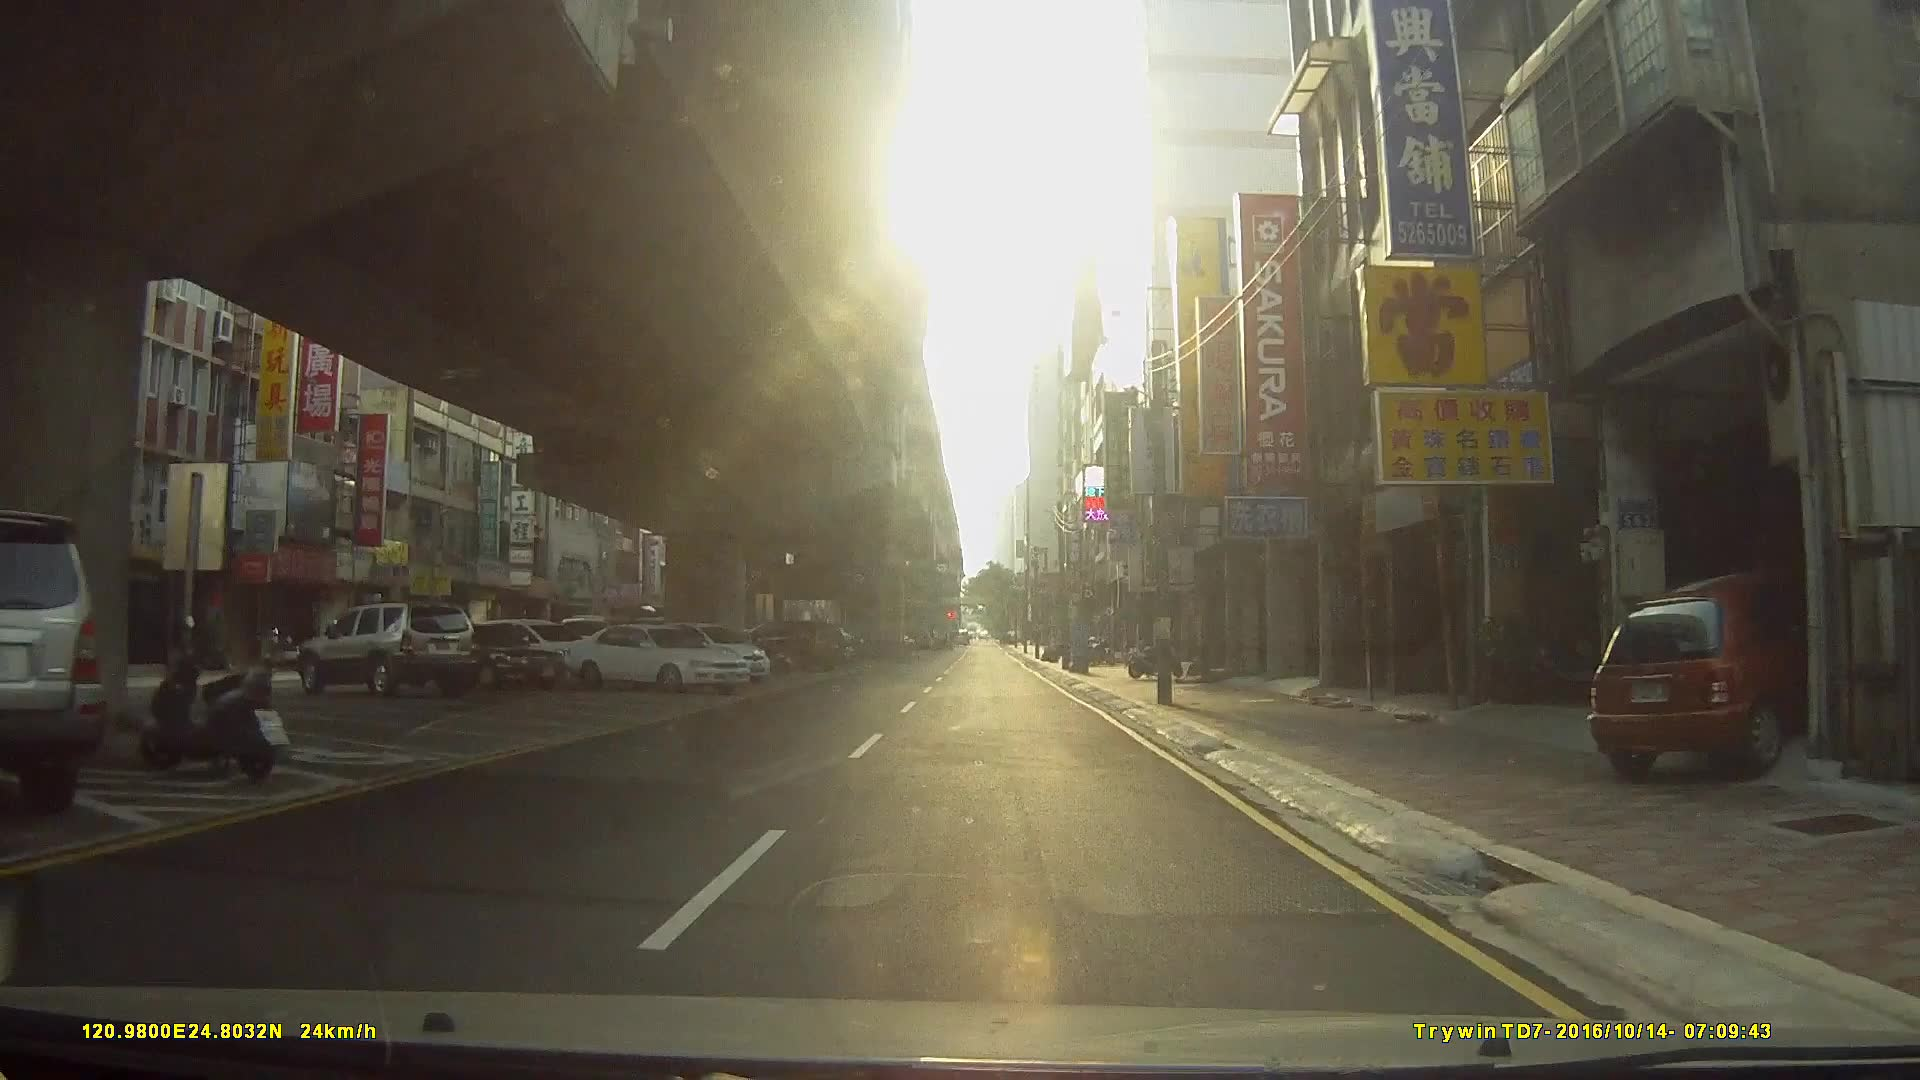vehicle: (1586, 563, 1822, 779), (0, 508, 102, 822), (297, 601, 480, 698), (381, 618, 568, 691), (562, 622, 756, 688)
